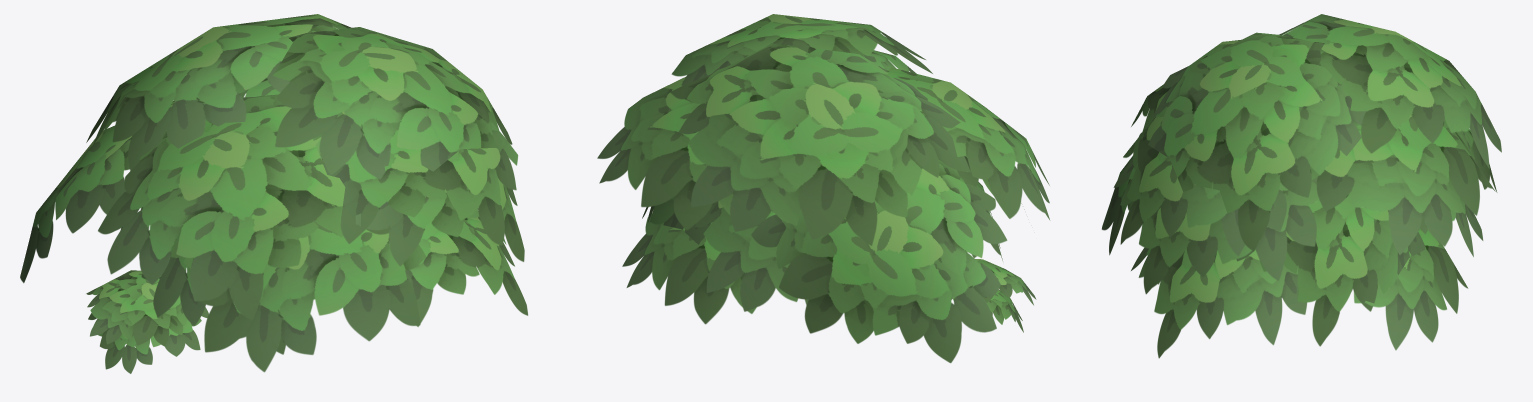
File: Bush.glb
The picture shows the model from 3 angles, left to right: view 1: azimuth 30°, elevation 25°; view 2: azimuth 150°, elevation 25°; view 3: azimuth 270°, elevation 25°; orthographic projection. The views are drawn at different scales.
Visible parts, largest first — view 1: Bush_Large; view 2: Bush_Large; view 3: Bush_Large.
Boxes of the visible parts, x1,y1,x2,y2 form: Bush_Large: (20, 14, 527, 373); Bush_Large: (597, 14, 1050, 363); Bush_Large: (1102, 14, 1501, 358).
Bounding box in the file's own units: 4.84 × 2.78 × 4.03.
Materials: 1 (1 with a texture image).
